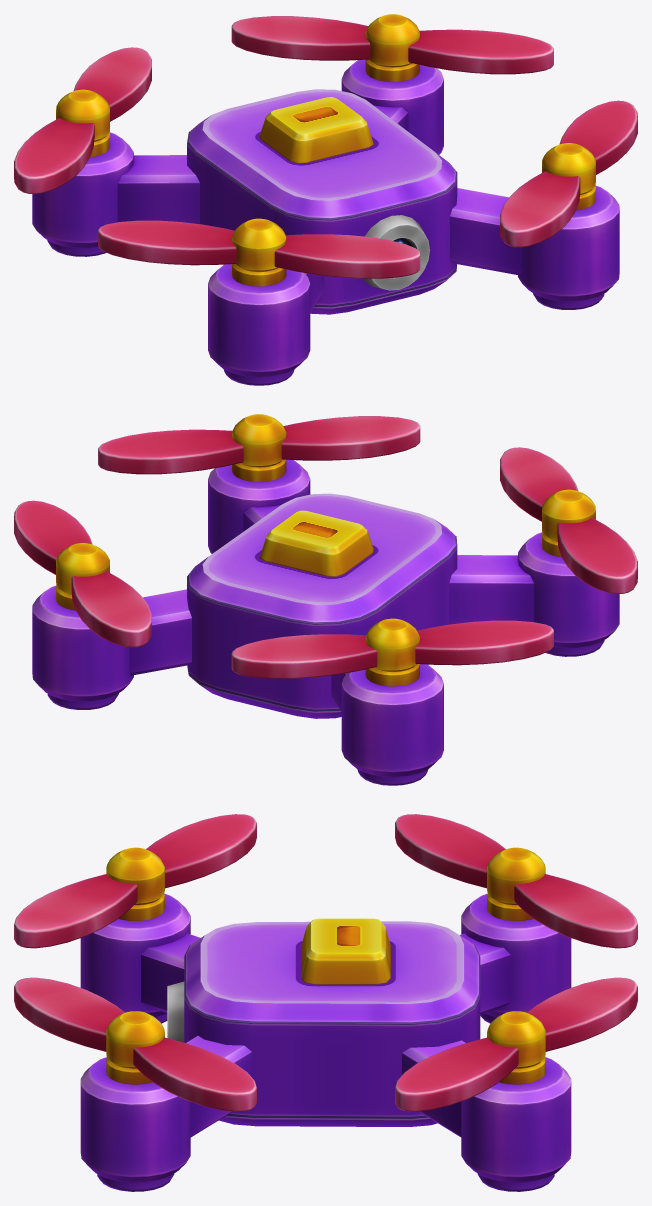
Rendered from Drone_Model.fbx.
The picture shows the model from 3 angles, top to bottom: view 1: azimuth 30°, elevation 25°; view 2: azimuth 150°, elevation 25°; view 3: azimuth 270°, elevation 25°; orthographic projection. The views are drawn at different scales.
Visible parts, largest first — view 1: Drone, Pan_02, Pan_04, Pan_01, Pan_03; view 2: Drone, Pan_01, Pan_03, Pan_02, Pan_04; view 3: Drone, Pan_01, Pan_02, Pan_03, Pan_04.
Boxes of the visible parts, x1,y1,x2,y2 form: Drone: (32,14,619,385); Pan_02: (231,16,553,74); Pan_04: (98,220,420,278); Pan_01: (500,100,637,247); Pan_03: (14,47,151,194); Drone: (32,414,619,785); Pan_01: (98,416,420,474); Pan_03: (231,620,553,678); Pan_02: (14,500,151,647); Pan_04: (500,447,637,594); Drone: (80,847,571,1191); Pan_01: (14,977,256,1111); Pan_02: (395,977,637,1111); Pan_03: (395,814,637,948); Pan_04: (14,814,256,948).
Size of the model in its own units: 96.51 by 25.69 by 90.55.
